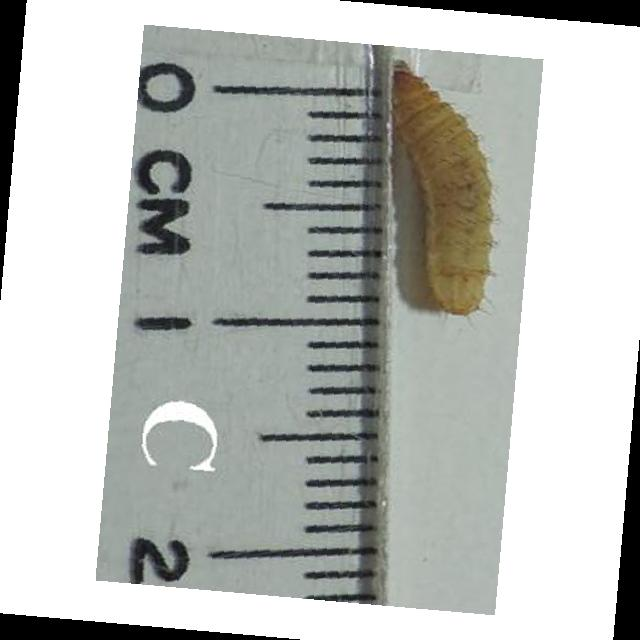Maggot: (386, 56, 494, 316)
